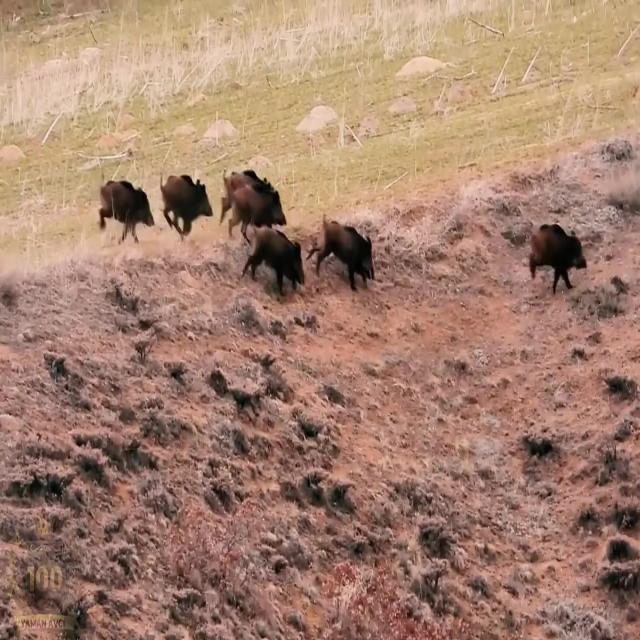pig: (314, 196, 388, 316), (520, 210, 597, 314), (214, 137, 276, 240), (88, 162, 144, 256), (248, 222, 304, 311), (147, 151, 195, 235)
